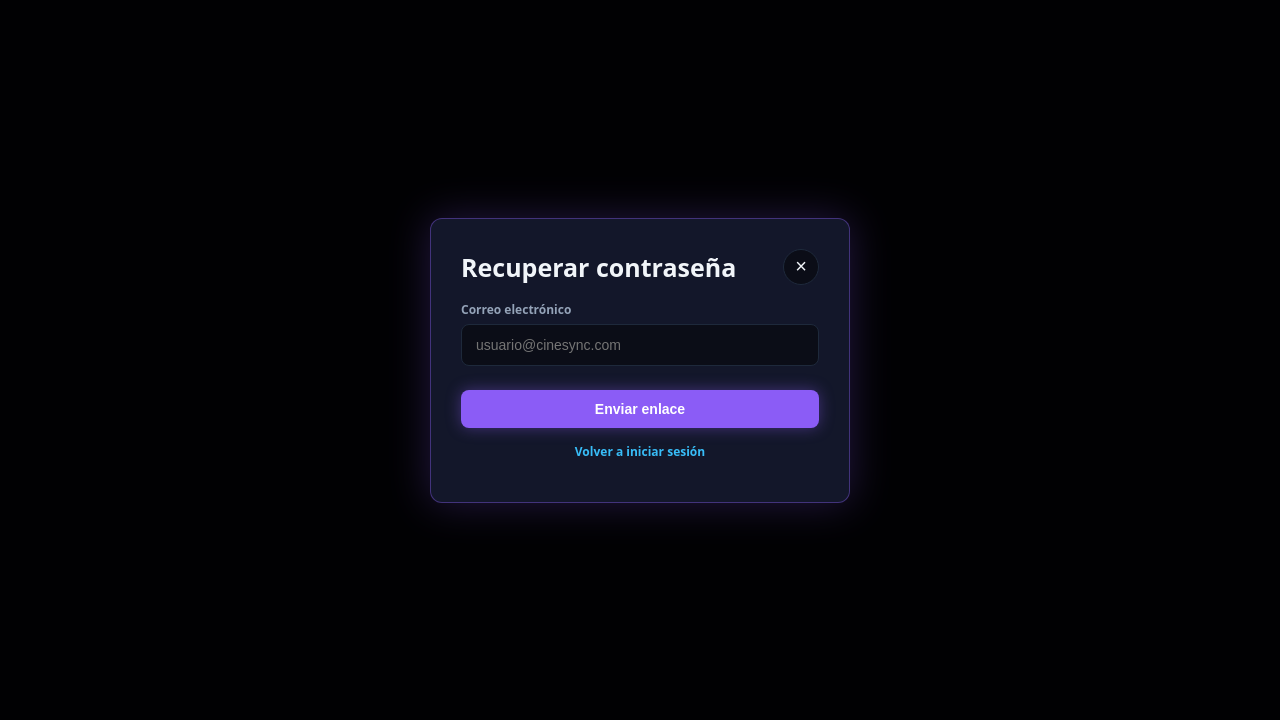
Test: ForgotPasswordPageComponent › confirms neutrally whether or not the account exists
Type "nobody@cinesync.com" into the field with id "forgot-email" at (640, 344), box [461,324,819,366]
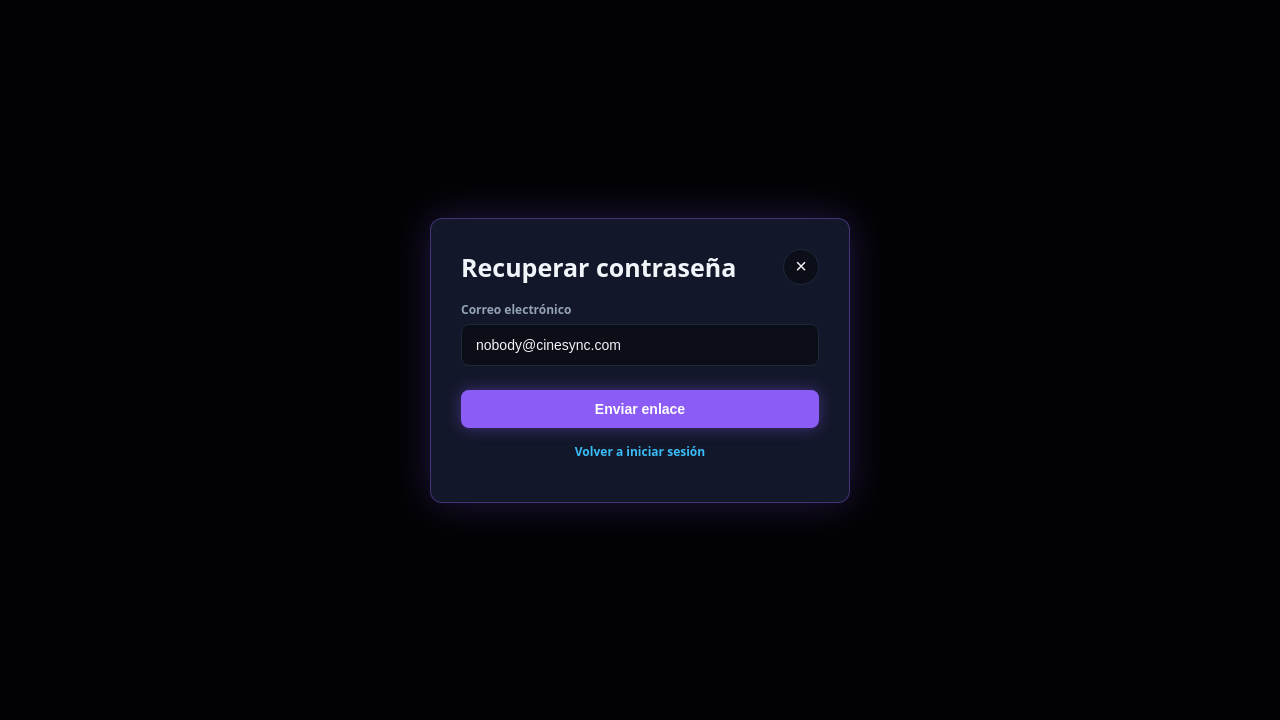
Submit the form, box [461,300,819,428]
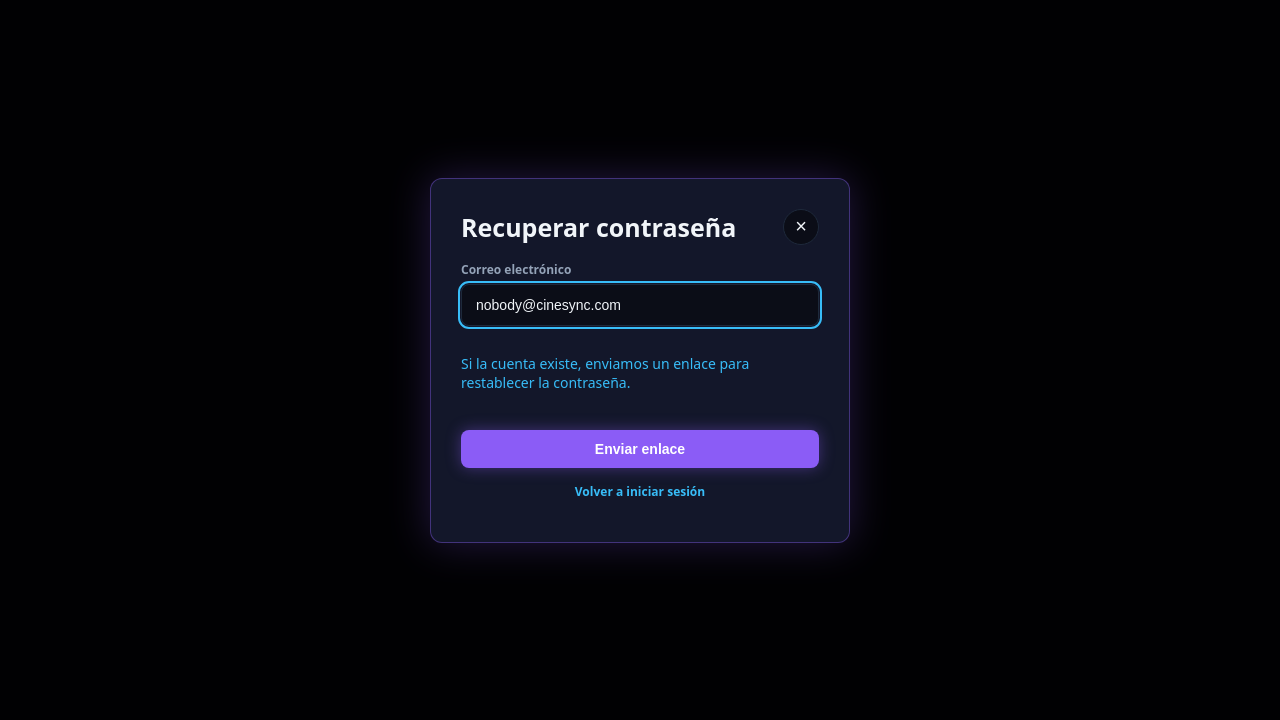
Expected: the message "Si la cuenta existe, enviamos un enlace para restablecer la contraseña." is shown, [461,354,749,392]
